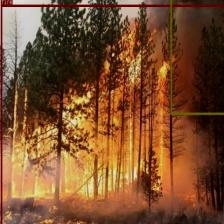fire: (0, 4, 224, 224)
smoke: (170, 0, 224, 114)
